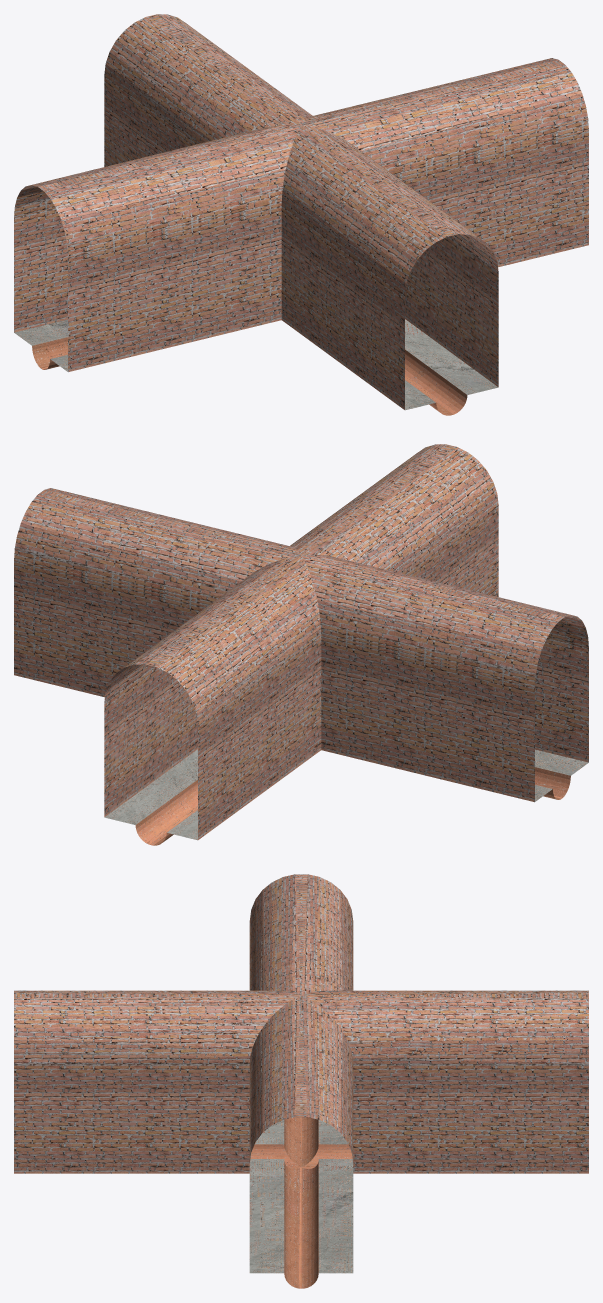
Rendered from T130_gut30_X_5m.dae.
3 views of the same model, one above another, from view 1: azimuth 30°, elevation 25°; view 2: azimuth 150°, elevation 25°; view 3: azimuth 270°, elevation 25° (orthographic). The views are drawn at different scales.
Parts seen in each view (by area): view 1: SketchUp (×5); view 2: SketchUp (×5); view 3: SketchUp (×4).
Part boxes in pixels (x1,y1,x2,y2): SketchUp (×5): (14, 14, 588, 415); SketchUp (×5): (14, 444, 588, 845); SketchUp (×4): (14, 874, 588, 1288).
Size of the model in its own units: 197 by 197 by 64.96.
